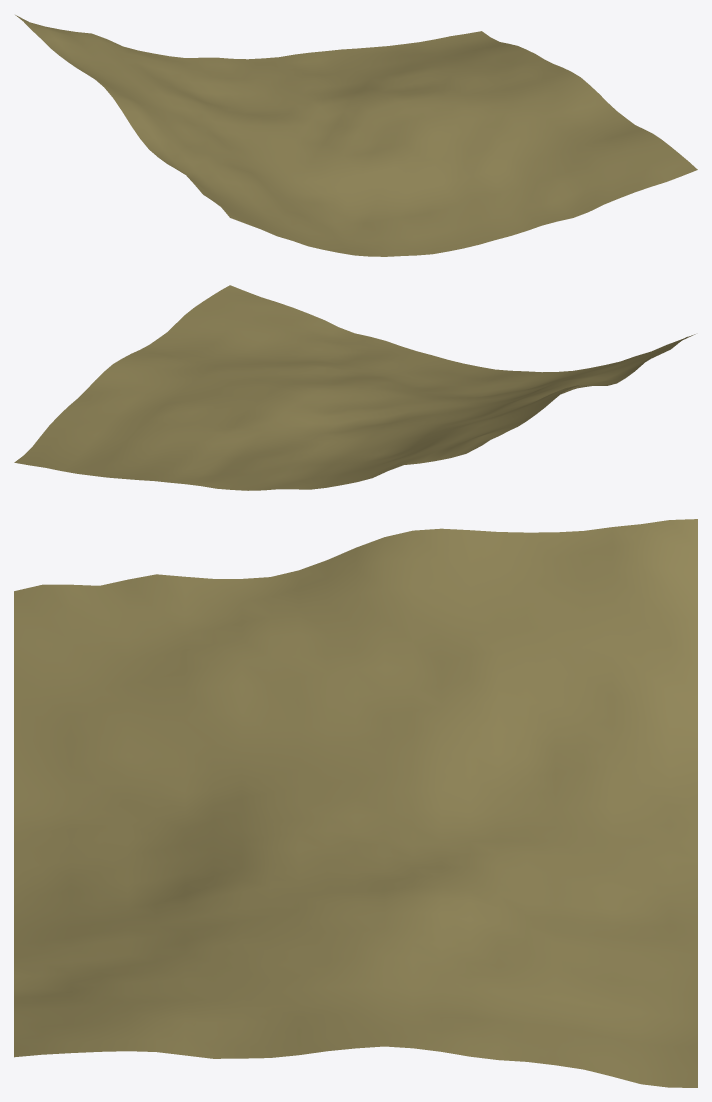
3 renders of one model, top to bottom at view 1: azimuth 30°, elevation 25°; view 2: azimuth 150°, elevation 25°; view 3: azimuth 270°, elevation 25°, orthographic. The views are drawn at different scales.
Visible parts, largest first — view 1: world-ground/210-96; view 2: world-ground/210-96; view 3: world-ground/210-96.
Part boxes in pixels (left/top/right/bottom): world-ground/210-96: left=15, top=15, right=697, bottom=256; world-ground/210-96: left=14, top=285, right=695, bottom=490; world-ground/210-96: left=14, top=519, right=697, bottom=1087.
Bounding box in the file's own units: 37.5 × 10.21 × 30.
